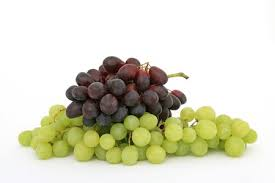Green grapes: (170, 108, 261, 158), (102, 120, 173, 168), (31, 117, 96, 162)
Red Grapes: (41, 57, 188, 127)
